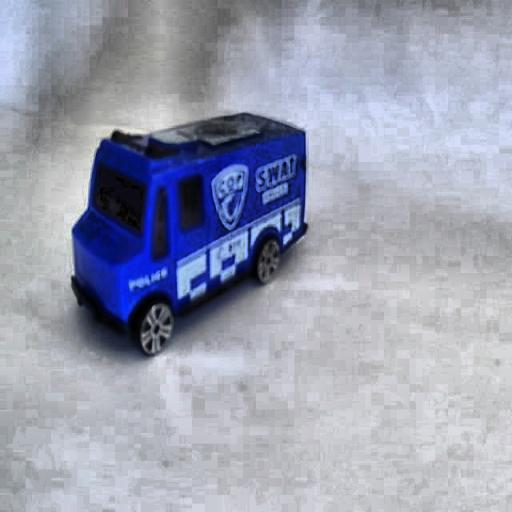police car: (70, 104, 309, 355)
